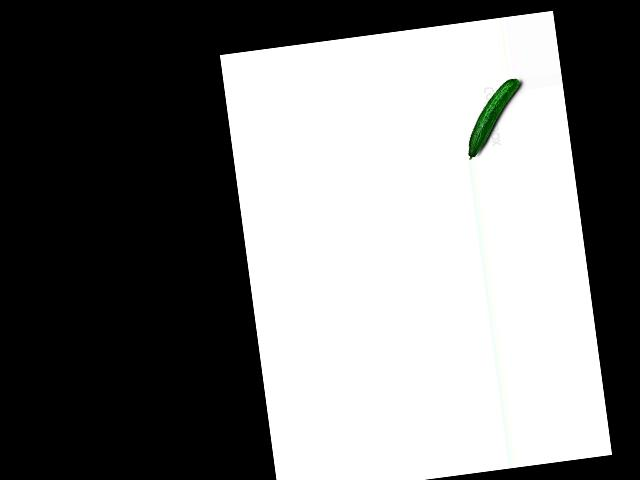cucumber: (459, 78, 529, 160)
